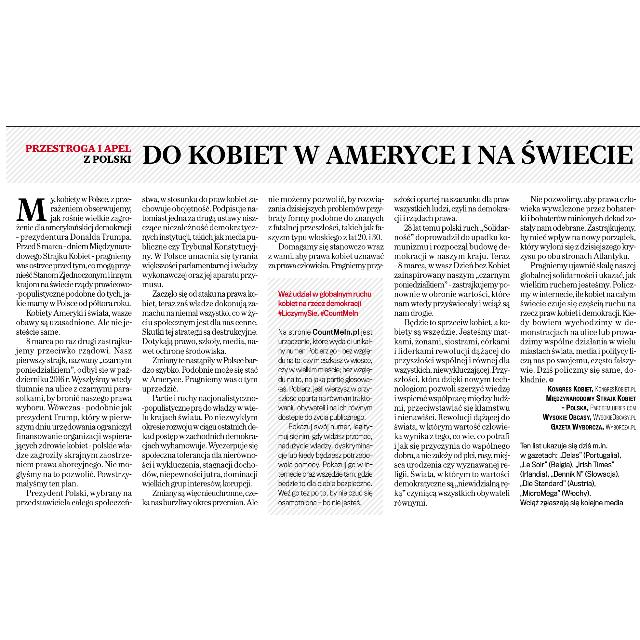author: (539, 382, 639, 432)
body: (10, 189, 136, 509), (138, 188, 262, 508), (391, 192, 514, 510), (266, 190, 386, 512), (518, 191, 640, 383)
title: (22, 136, 638, 168)
